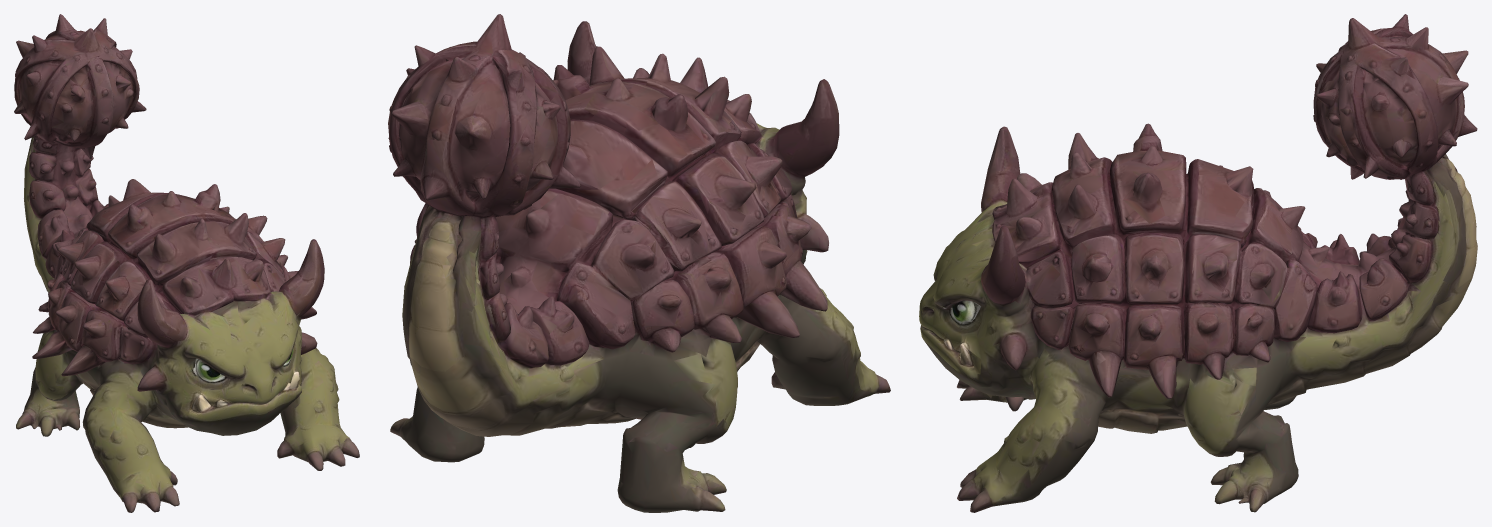
The picture shows the model from 3 angles, left to right: view 1: azimuth 30°, elevation 25°; view 2: azimuth 150°, elevation 25°; view 3: azimuth 270°, elevation 25°; orthographic projection. The views are drawn at different scales.
Visible parts, largest first — view 1: Mesh_0; view 2: Mesh_0; view 3: Mesh_0.
Part boxes in pixels (x1,y1,x2,y2): Mesh_0: (14, 14, 359, 512); Mesh_0: (388, 14, 890, 512); Mesh_0: (919, 14, 1477, 512).
Size of the model in its own units: 1.29 by 1.6 by 1.9.
Materials: 1 (1 with a texture image).
